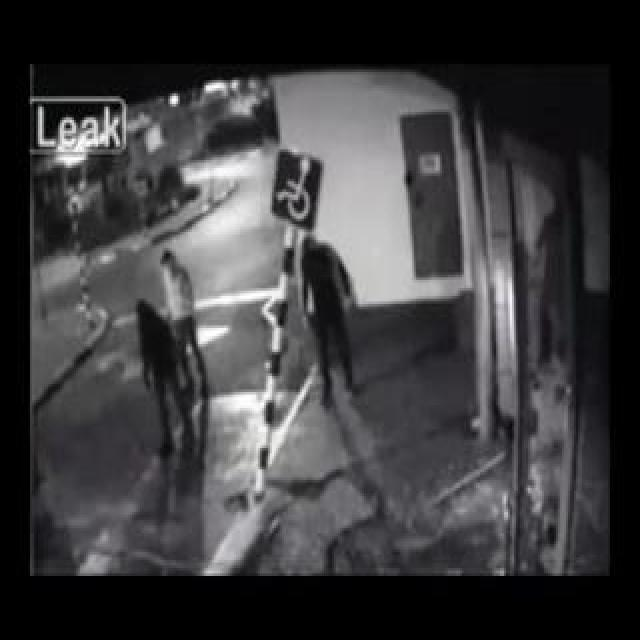thief: (137, 230, 208, 374), (302, 233, 348, 311)
